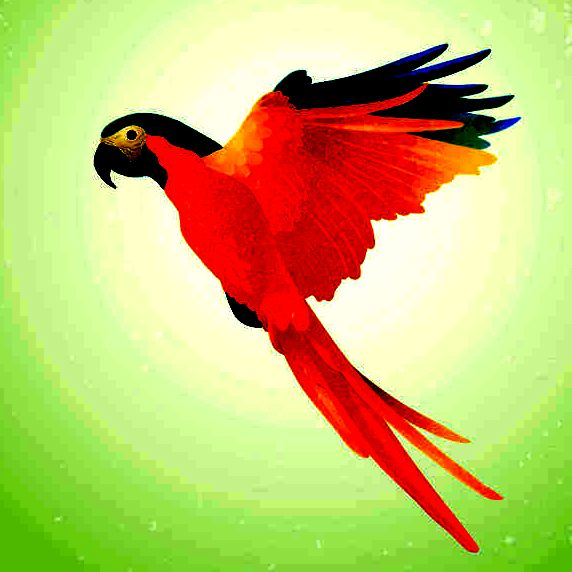Bird: (87, 35, 523, 553)
